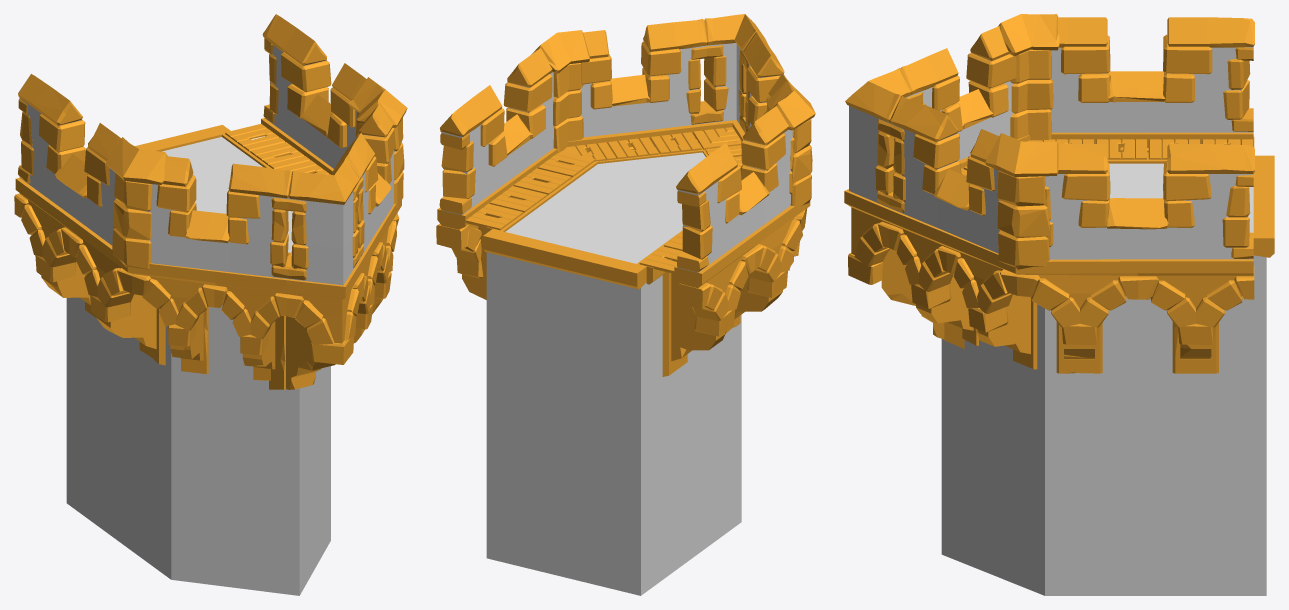
Rendered from SM_Rampart_3x6m_Mach_Guard_Long_A_Fantasy_Base.fbx.
The picture shows the model from 3 angles, left to right: view 1: azimuth 30°, elevation 25°; view 2: azimuth 150°, elevation 25°; view 3: azimuth 270°, elevation 25°; orthographic projection. The views are drawn at different scales.
Visible parts, largest first — view 1: SM_Rampart_3x6m_Mach_Guard_Long_A_Fantasy_Base; view 2: SM_Rampart_3x6m_Mach_Guard_Long_A_Fantasy_Base; view 3: SM_Rampart_3x6m_Mach_Guard_Long_A_Fantasy_Base.
Boxes of the visible parts, <box> form: SM_Rampart_3x6m_Mach_Guard_Long_A_Fantasy_Base: <box>14,14,407,595</box>; SM_Rampart_3x6m_Mach_Guard_Long_A_Fantasy_Base: <box>436,14,815,595</box>; SM_Rampart_3x6m_Mach_Guard_Long_A_Fantasy_Base: <box>844,14,1274,595</box>.
Bounding box in the file's own units: 5.35 × 8.07 × 6.6.
